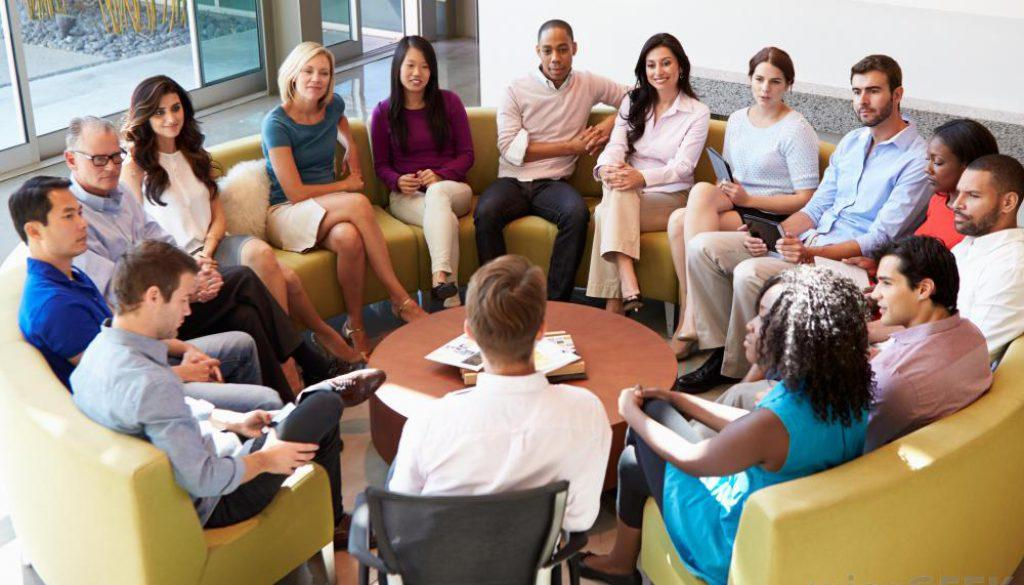No_Goggles: (297, 66, 333, 84), (153, 100, 184, 118), (55, 204, 83, 222), (925, 152, 956, 168), (956, 187, 989, 201), (751, 75, 786, 88), (541, 43, 572, 57), (876, 275, 907, 289), (852, 85, 887, 97), (646, 57, 678, 69), (403, 61, 430, 73)
